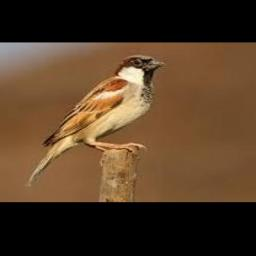Sparrow: (25, 55, 165, 188)
